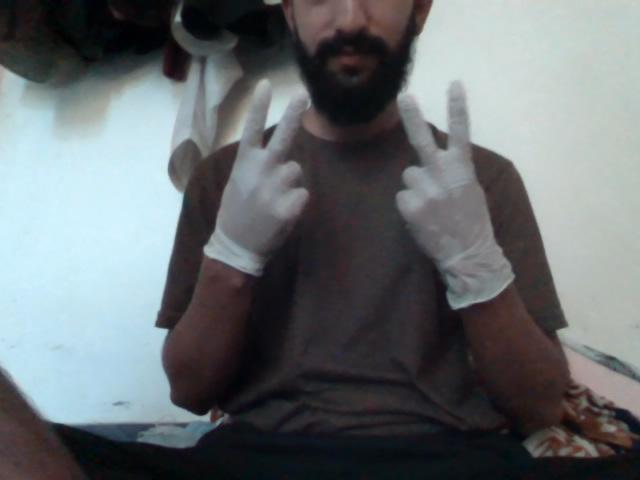gloves: (366, 79, 536, 328), (214, 81, 349, 318)
